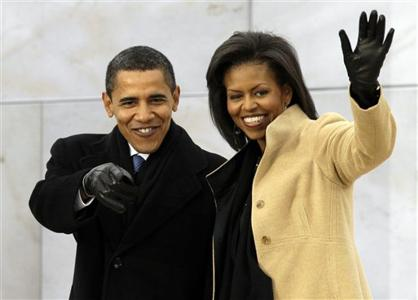person: (205, 10, 398, 300)
